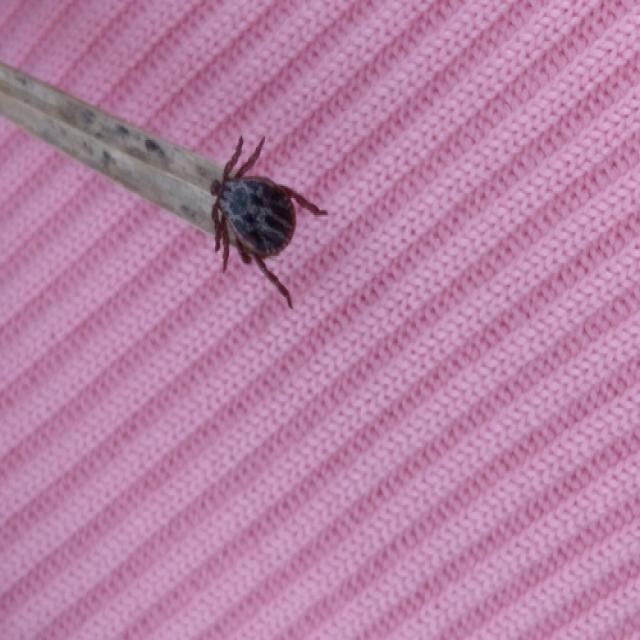Dermacentor Reticulatus-M: (210, 135, 328, 307)
